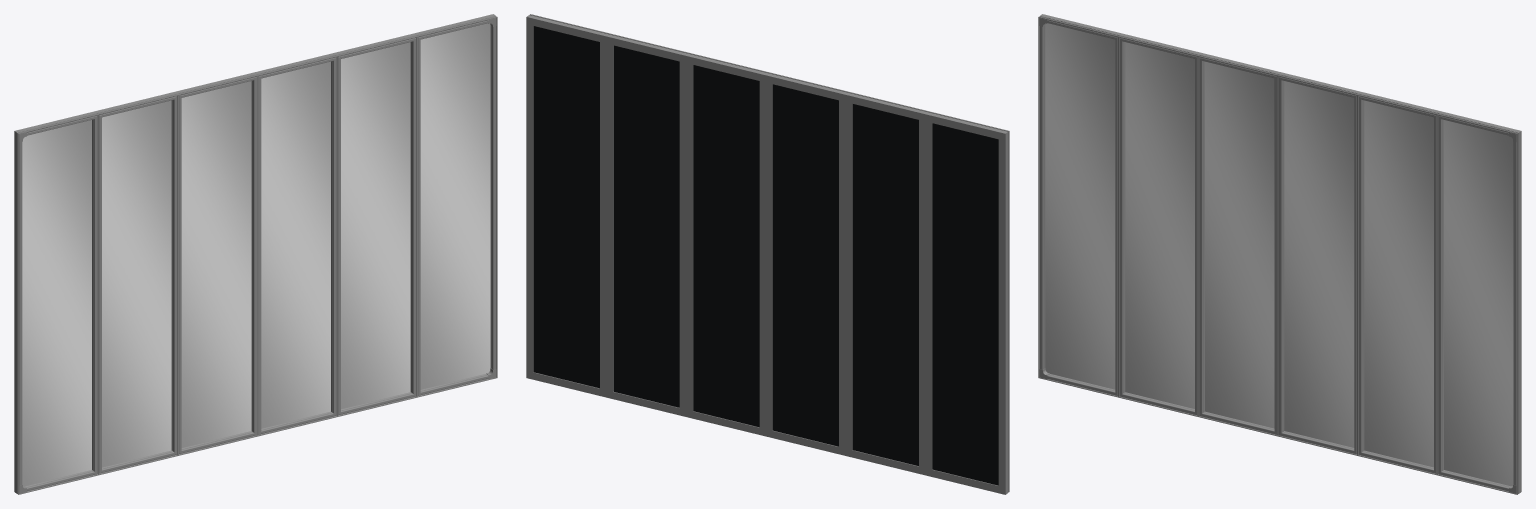
3 views of the same model, side by side, from view 1: azimuth 30°, elevation 25°; view 2: azimuth 150°, elevation 25°; view 3: azimuth 330°, elevation 25° (orthographic).
Parts seen in each view (by area): view 1: Rectangle001, Plane005, Plane014, Plane010, Plane006, Plane012, Plane008; view 2: Rectangle001, Plane007, Plane009, Plane011, Plane003, Plane002, Plane013; view 3: Rectangle001, Plane010, Plane008, Plane005, Plane006, Plane012, Plane014.
Boxes of the visible parts, x1=… form: Rectangle001: x1=14, y1=14, x2=497, y2=494; Plane005: x1=181, y1=81, x2=251, y2=447; Plane014: x1=420, y1=23, x2=490, y2=389; Plane010: x1=261, y1=61, x2=330, y2=428; Plane006: x1=102, y1=100, x2=171, y2=467; Plane012: x1=341, y1=42, x2=410, y2=408; Plane008: x1=22, y1=120, x2=91, y2=486; Rectangle001: x1=526, y1=14, x2=1009, y2=494; Plane007: x1=932, y1=123, x2=998, y2=485; Plane009: x1=693, y1=65, x2=759, y2=427; Plane011: x1=613, y1=45, x2=679, y2=407; Plane003: x1=852, y1=104, x2=918, y2=465; Plane002: x1=772, y1=84, x2=838, y2=446; Plane013: x1=533, y1=26, x2=599, y2=388; Rectangle001: x1=1038, y1=14, x2=1521, y2=494; Plane010: x1=1284, y1=81, x2=1354, y2=447; Plane008: x1=1045, y1=23, x2=1115, y2=389; Plane005: x1=1205, y1=61, x2=1274, y2=428; Plane006: x1=1125, y1=42, x2=1194, y2=408; Plane012: x1=1364, y1=100, x2=1433, y2=467; Plane014: x1=1444, y1=120, x2=1513, y2=486.
Bounding box in the file's own units: 2082 × 1500 × 30.
4 materials, 2 textured.
